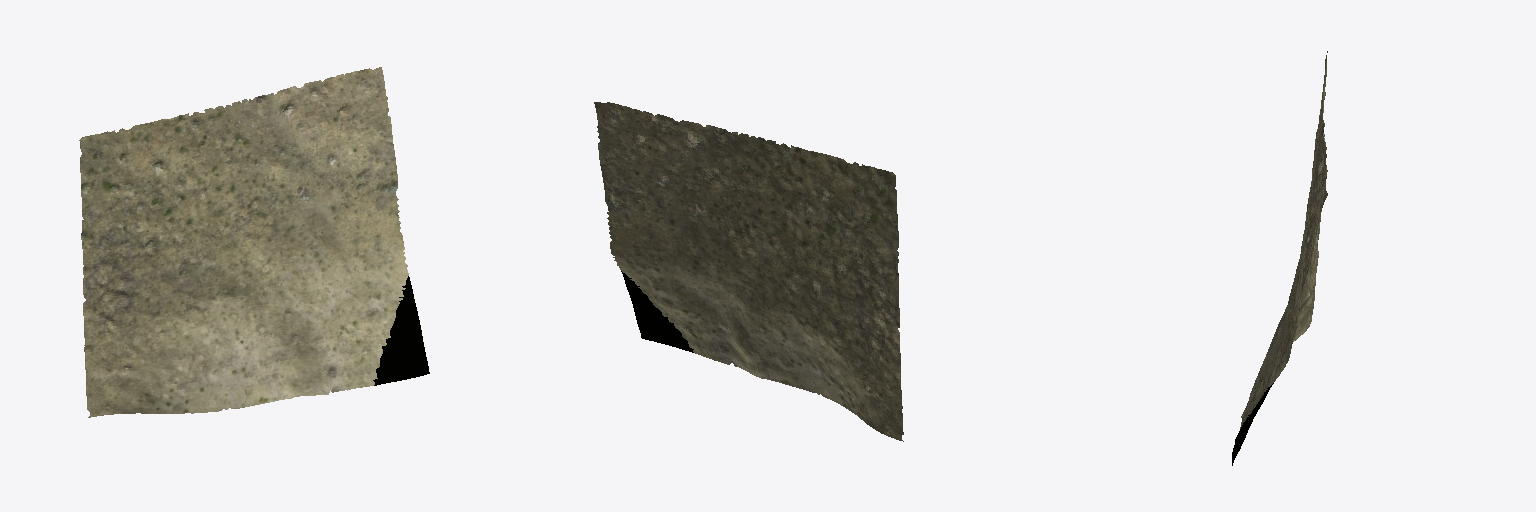
3 renders of one model, left to right at view 1: azimuth 30°, elevation 25°; view 2: azimuth 150°, elevation 25°; view 3: azimuth 270°, elevation 25°, orthographic.
Size of the model in its own units: 1.97 by 1.7 by 0.5403.
1 materials, 1 textured.